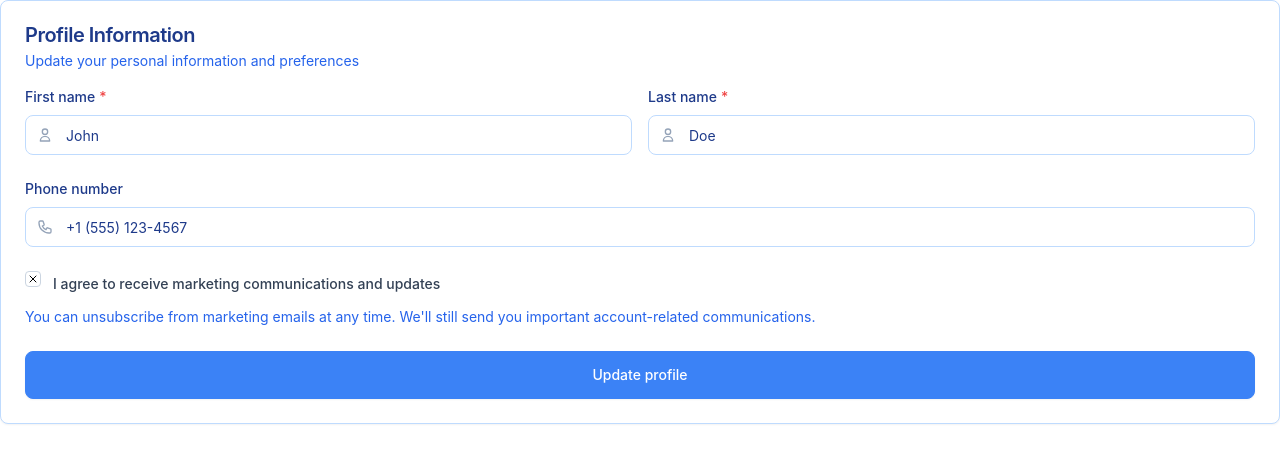
ProfileForm › Form Validation › should show error for empty last name
Step 1. Clear the field labelled "Last name*" → (952, 135), box [648,115,1255,155]
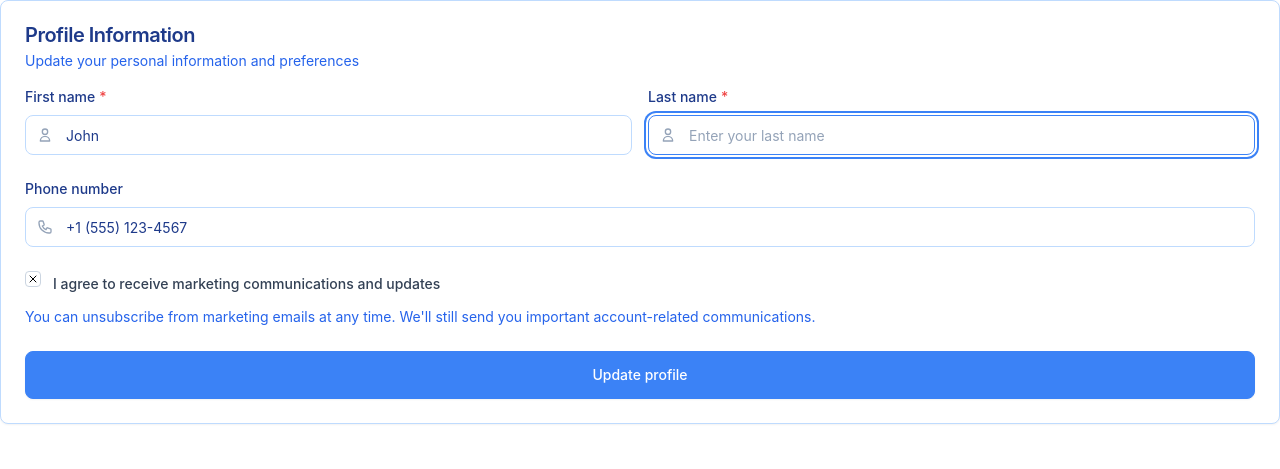
Step 2. Submit the form
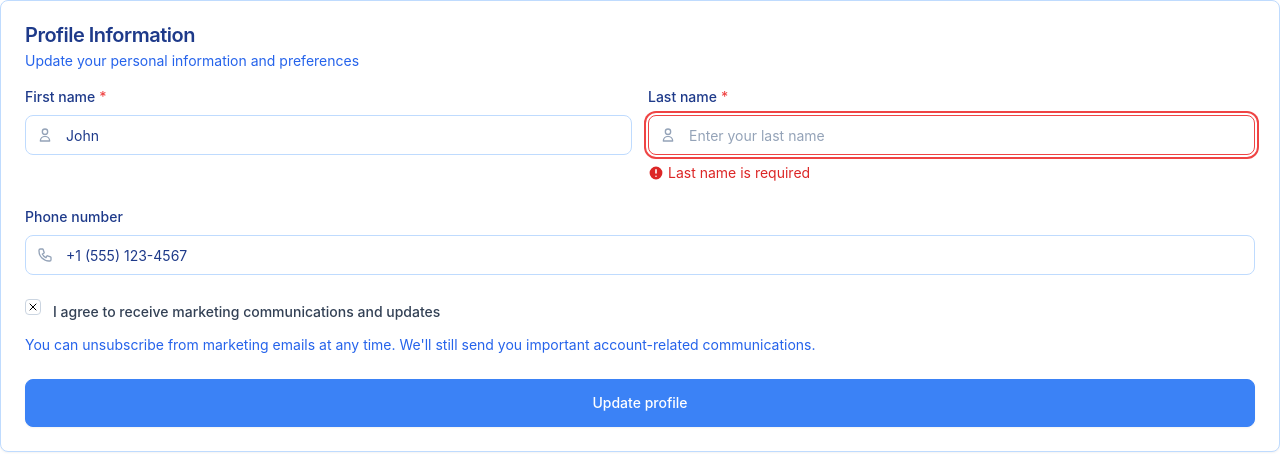
expect the text "Last name is required" is shown: met, box [668,163,810,183]
